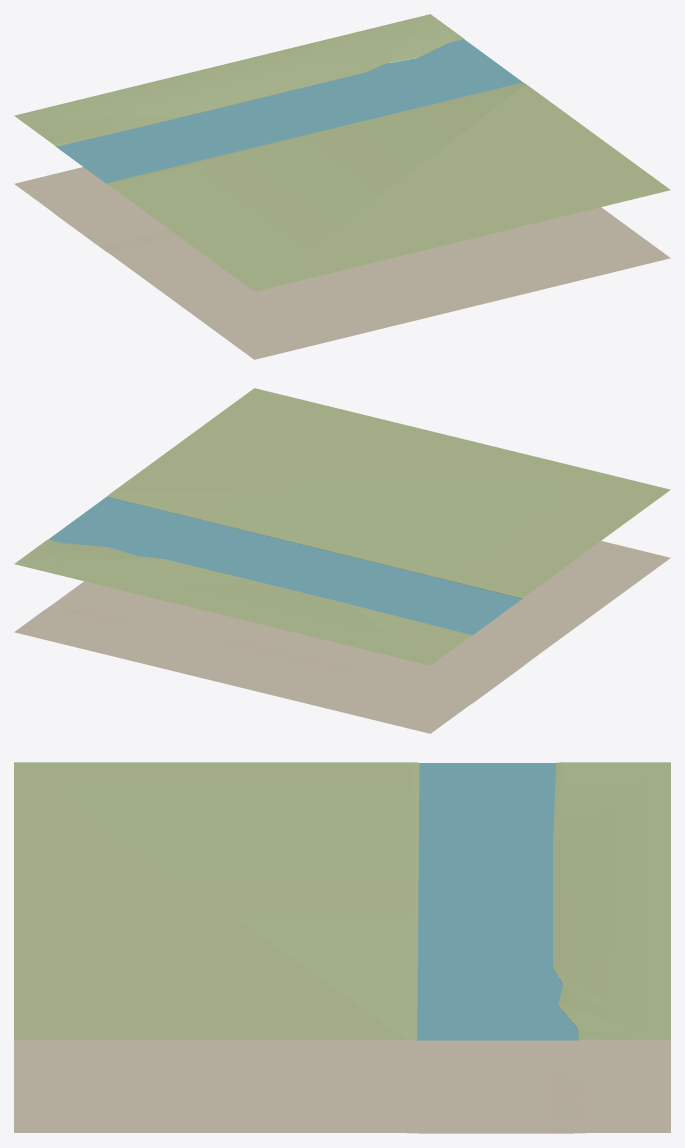
The picture shows the model from 3 angles, top to bottom: view 1: azimuth 30°, elevation 25°; view 2: azimuth 150°, elevation 25°; view 3: azimuth 270°, elevation 25°; orthographic projection. The views are drawn at different scales.
Parts seen in each view (by area): view 1: s_-2_-7__grass, s_-2_-7__soil, s_-2_-7__water; view 2: s_-2_-7__grass, s_-2_-7__soil, s_-2_-7__water; view 3: s_-2_-7__grass, s_-2_-7__soil, s_-2_-7__water.
Part boxes in pixels (left/top/right/bottom): s_-2_-7__grass: left=14, top=14, right=670, bottom=291; s_-2_-7__soil: left=14, top=167, right=670, bottom=359; s_-2_-7__water: left=56, top=39, right=522, bottom=183; s_-2_-7__grass: left=14, top=388, right=670, bottom=665; s_-2_-7__soil: left=14, top=541, right=670, bottom=733; s_-2_-7__water: left=48, top=496, right=522, bottom=635; s_-2_-7__grass: left=14, top=762, right=670, bottom=1040; s_-2_-7__soil: left=14, top=1040, right=670, bottom=1133; s_-2_-7__water: left=417, top=763, right=578, bottom=1040.
Size of the model in its own units: 128 by 20.14 by 128.
